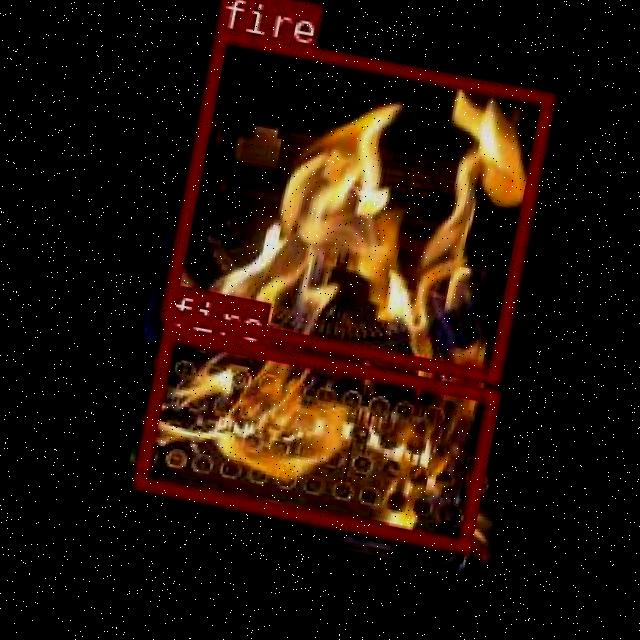fire: (160, 26, 552, 382), (132, 326, 498, 552)
